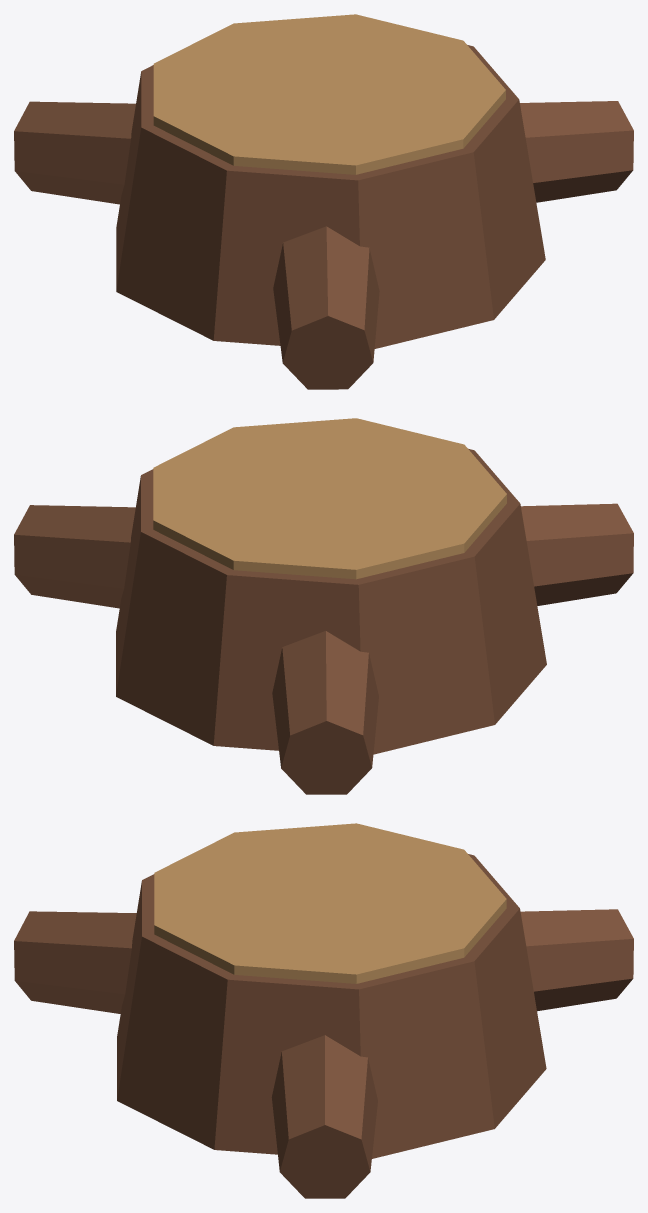
The model's file is tree_stump_small.glb.
The picture shows the model from 3 angles, top to bottom: view 1: azimuth 30°, elevation 25°; view 2: azimuth 150°, elevation 25°; view 3: azimuth 270°, elevation 25°; orthographic projection.
Visible parts, largest first — view 1: tree_stump_small; view 2: tree_stump_small; view 3: tree_stump_small.
Part boxes in pixels (left/top/right/bottom): tree_stump_small: left=14, top=14, right=633, bottom=389; tree_stump_small: left=14, top=418, right=633, bottom=794; tree_stump_small: left=14, top=823, right=633, bottom=1198.
Bounding box in the file's own units: 0.5536 × 0.1863 × 0.6159.
